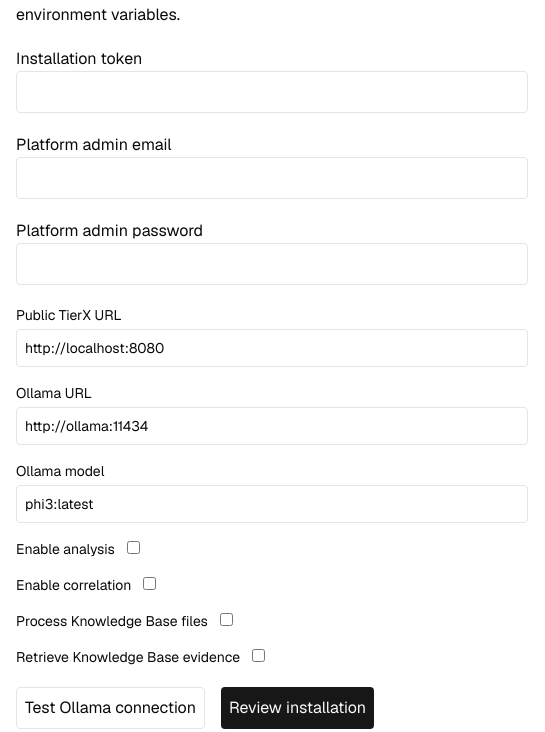
Test: first-run installation › shows safe connection errors without completing installation
(page scrolled)
Expected: the password field labelled "Installation token" is shown, [16,71,528,113]
What coordinates should you click on to do the following:
click the button "Test Ollama connection"
I would click on:
 (110, 708)
Its box is [16,687,205,729].
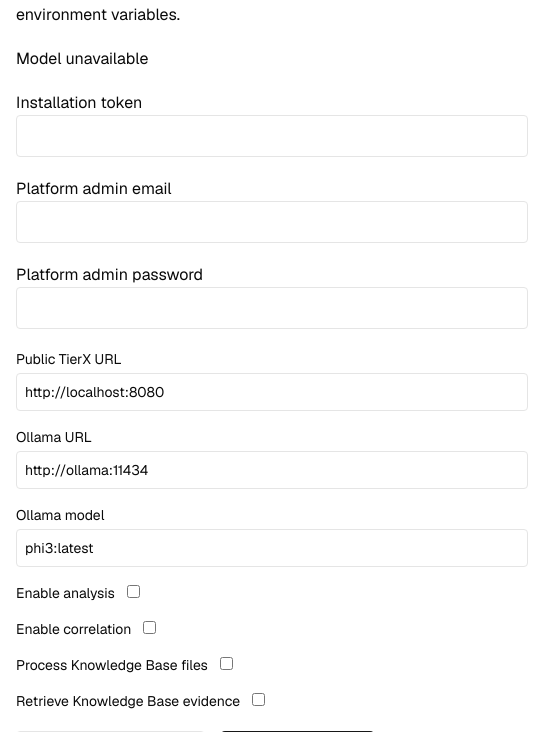
Expected: the message reads "Model unavailable", [16,48,148,69]
